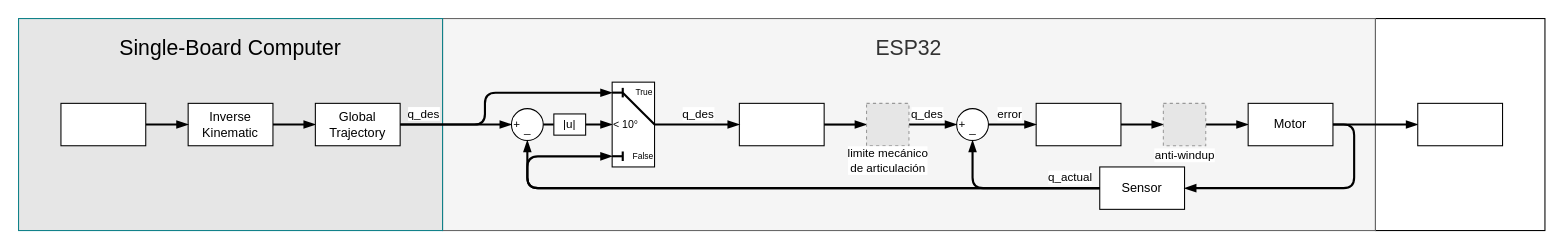
This 1563x249 diagram has some shape labels left out. Grey dashed boxes stand in for pictures. The shapes that lost their labels are listed below. From the top down, each one's centre as x and y in pixels, then its label:
At pixel 103 124: "URDF".
At pixel 781 124: "Local Trajectory".
At pixel 1078 124: "Control".
At pixel 1460 124: "Directly Kinematic".
